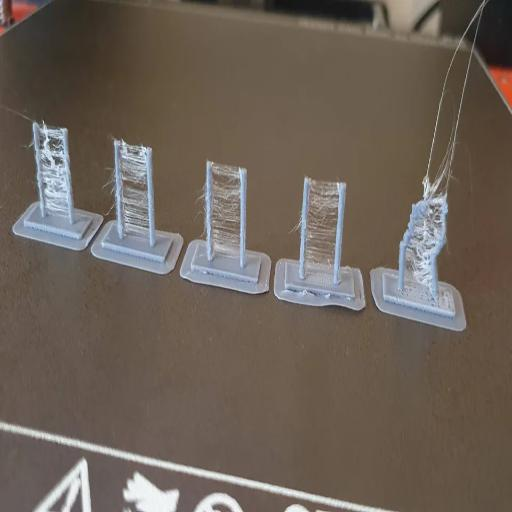stringing: (407, 1, 486, 288), (306, 177, 340, 275), (38, 125, 70, 219), (120, 140, 149, 238), (213, 162, 241, 259)
